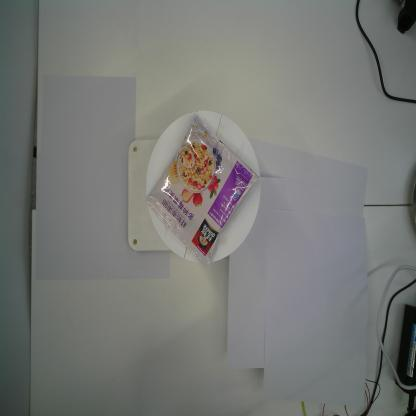Instant Drink: (146, 114, 260, 270)
